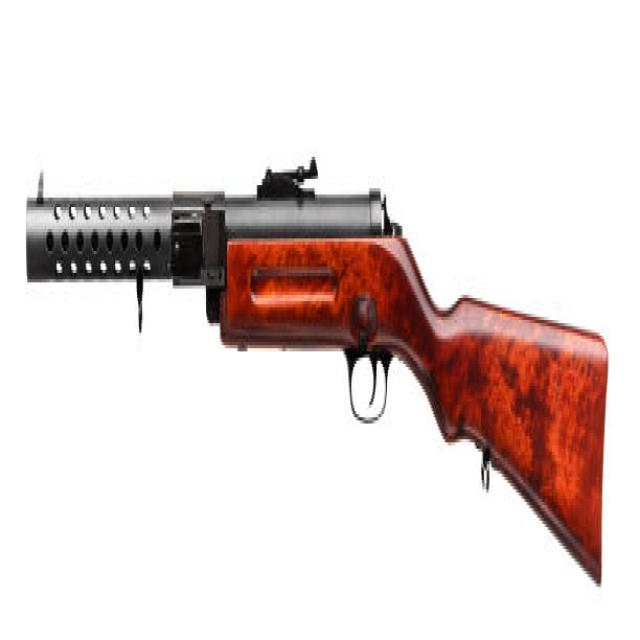rifle: (22, 155, 616, 603)
